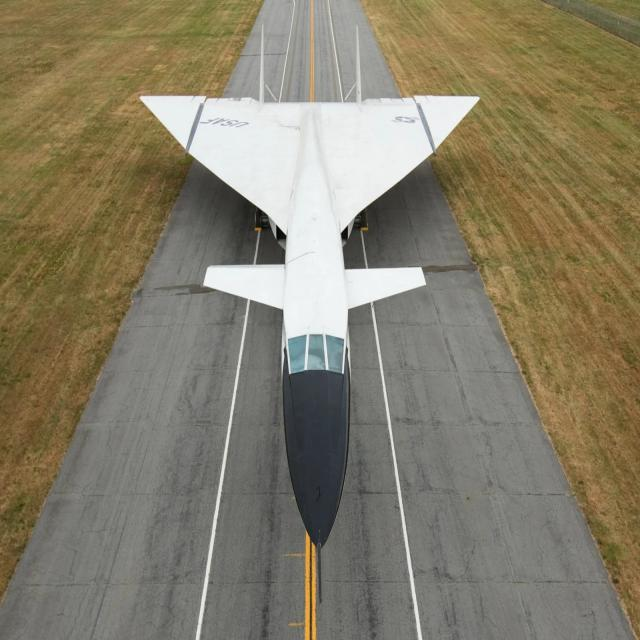MIL_Plane: (139, 24, 480, 604)
